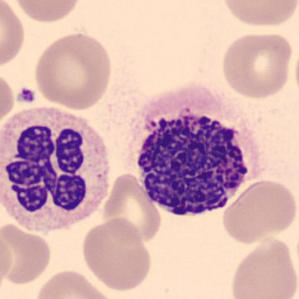Basophil: (130, 100, 262, 224)
Neutrophil: (0, 100, 119, 240)
Platelets: (14, 86, 37, 106)
RBC: (32, 31, 113, 111), (79, 217, 155, 292), (218, 29, 294, 100), (220, 177, 298, 244), (100, 170, 163, 246), (228, 233, 298, 299), (0, 220, 53, 287), (32, 267, 115, 299), (220, 0, 298, 29), (0, 0, 28, 71), (10, 0, 84, 25), (0, 69, 16, 130), (0, 226, 15, 290), (292, 36, 299, 105)
